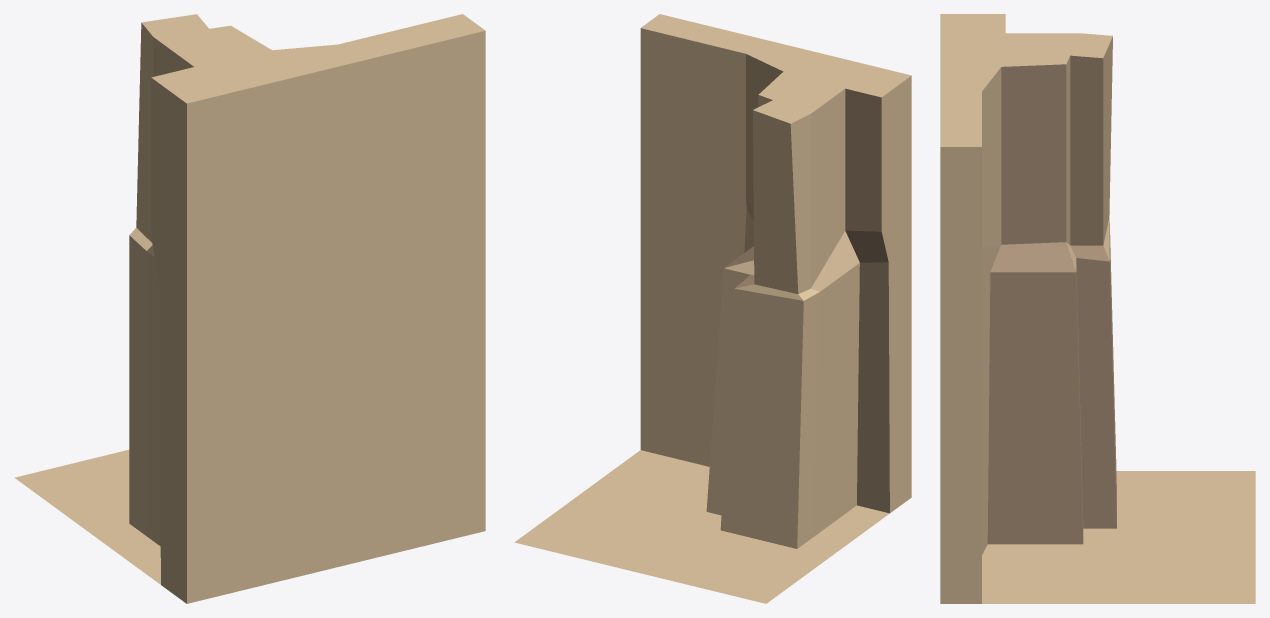
Rendered from WallColumn.fbx.
The picture shows the model from 3 angles, left to right: view 1: azimuth 30°, elevation 25°; view 2: azimuth 150°, elevation 25°; view 3: azimuth 270°, elevation 25°; orthographic projection. The views are drawn at different scales.
Parts seen in each view (by area): view 1: WallColumn; view 2: WallColumn; view 3: WallColumn.
Boxes of the visible parts, bbox=[...] form: WallColumn: bbox=[14, 14, 485, 603]; WallColumn: bbox=[514, 14, 911, 603]; WallColumn: bbox=[940, 14, 1255, 603].
Bounding box in the file's own units: 5 × 8 × 5.
